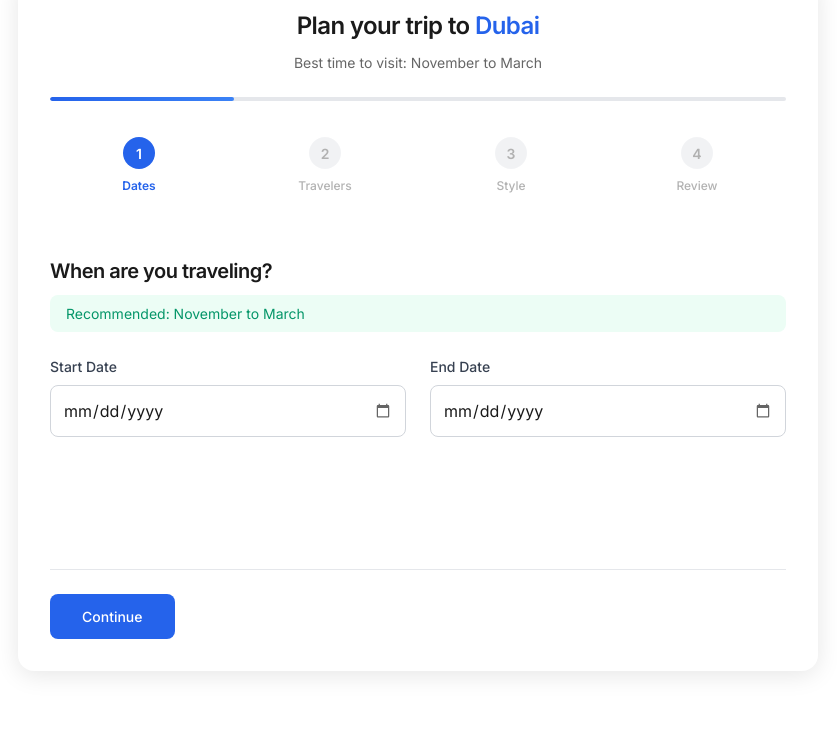
TripSetupWizard Integration › Data Persistence Across Steps › should remember traveler count when navigating back and forth
Click the button "Continue".
click(112, 616)  # box [50, 594, 174, 639]
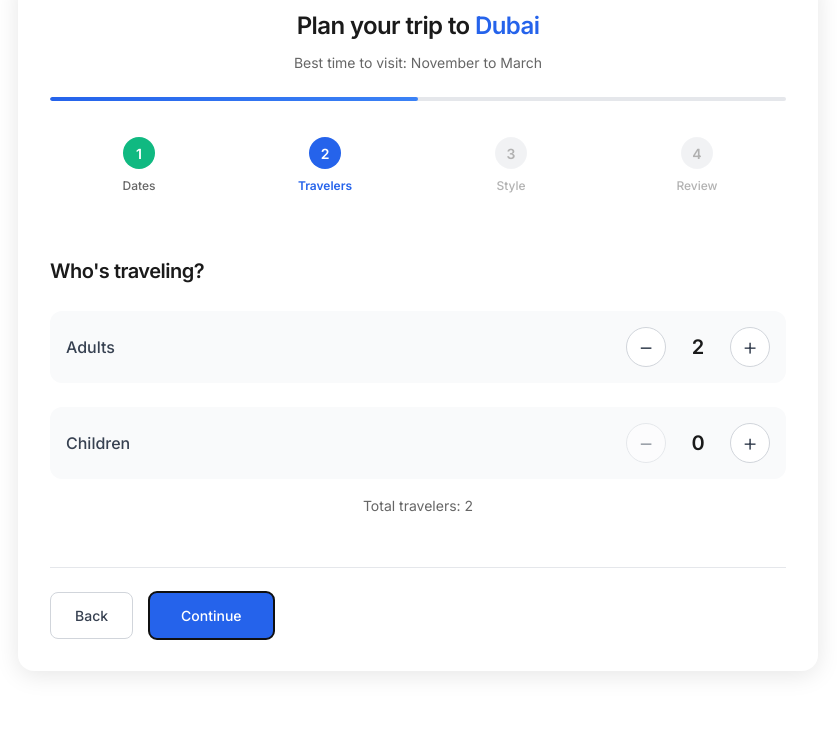
Result: the element with test id "step-travelers" is shown at [50, 239, 786, 532]
Result: the text with test id "adult-count" reads "2" at [692, 335, 704, 359]
Click the button named "increase adults".
click(750, 347)  # box [730, 327, 770, 367]
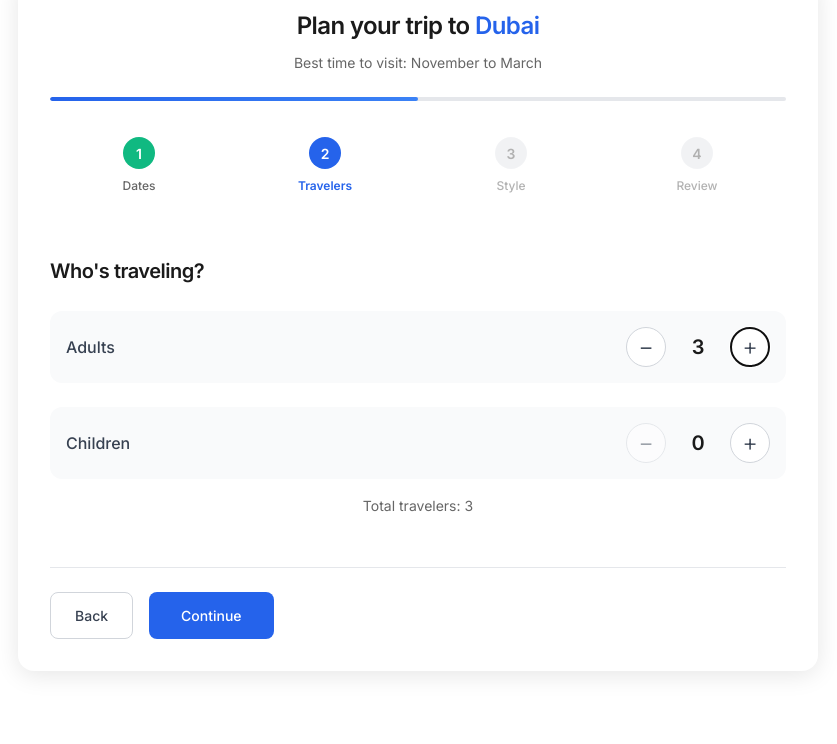
Result: the text with test id "adult-count" reads "3" at [692, 335, 704, 359]
Click the button "Continue".
click(211, 616)  # box [149, 592, 274, 639]
(page scrolled)
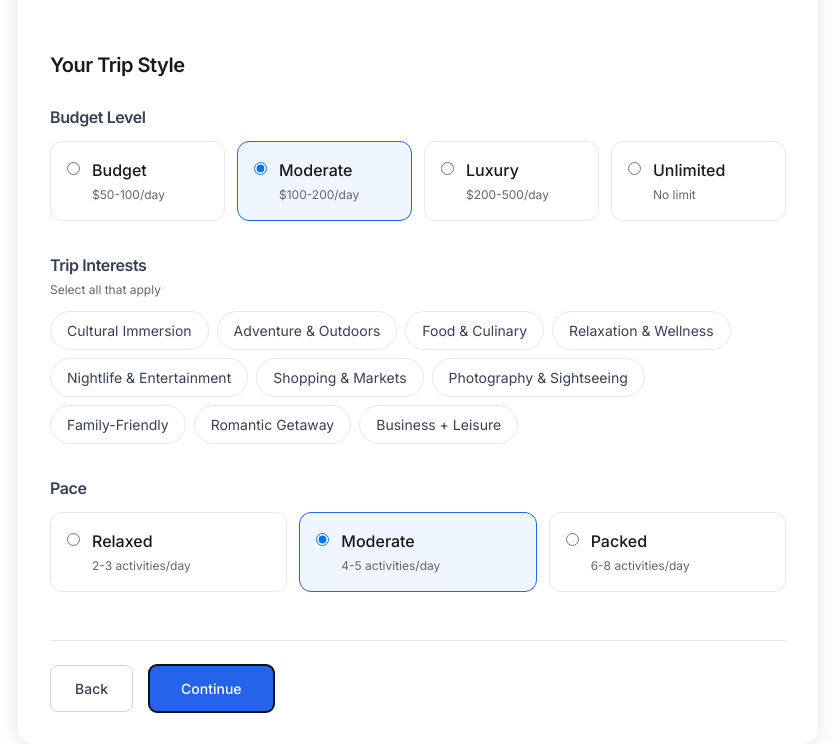
Result: the element with test id "step-preferences" is shown
Click the button "Back".
click(92, 688)  # box [50, 665, 133, 712]
(page scrolled)
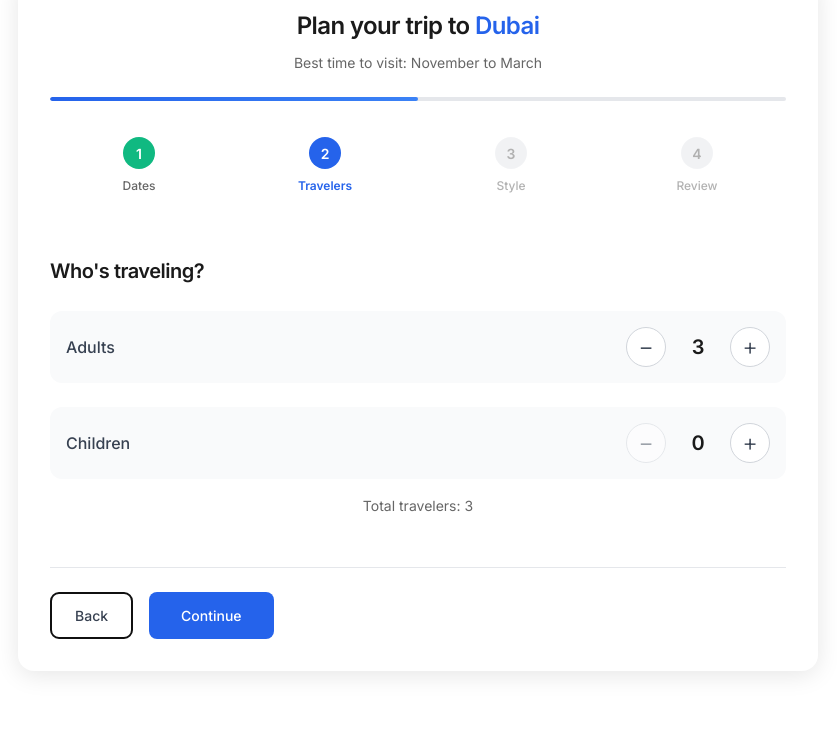
Result: the element with test id "step-travelers" is shown at [50, 239, 786, 532]
Result: the text with test id "adult-count" reads "3" at [692, 335, 704, 359]
